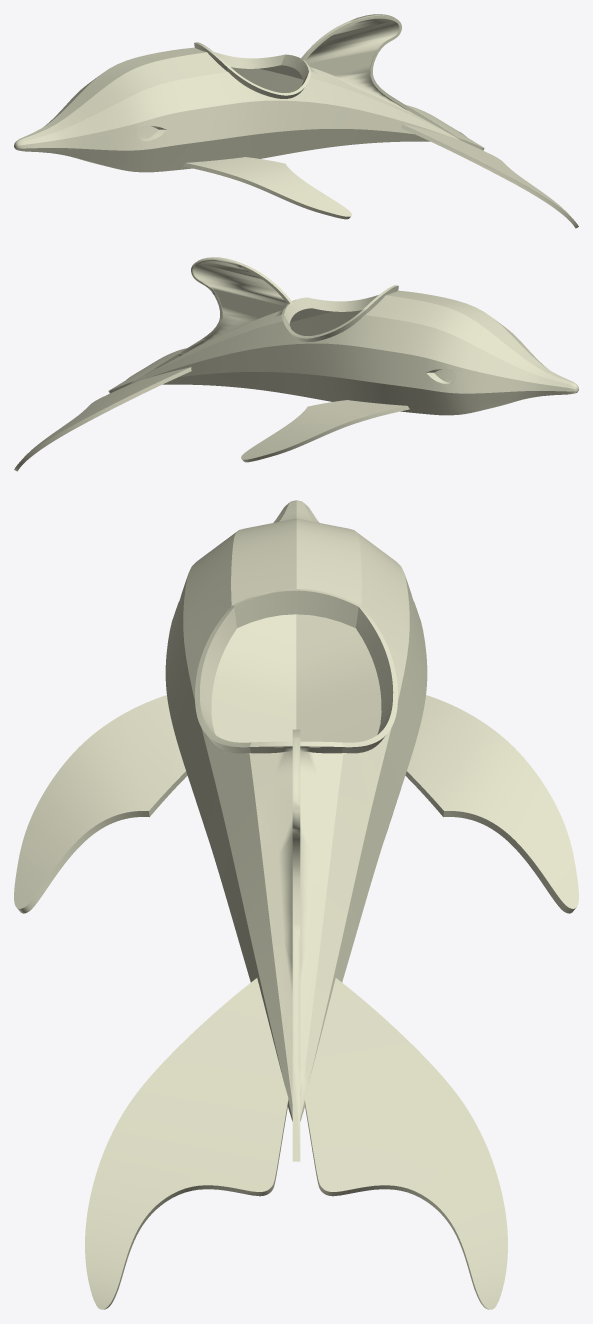
Rendered from _DOLFIJN.dae.
3 renders of one model, top to bottom at view 1: azimuth 30°, elevation 25°; view 2: azimuth 150°, elevation 25°; view 3: azimuth 270°, elevation 25°, orthographic. The views are drawn at different scales.
Parts seen in each view (by area): view 1: SketchUp (×15); view 2: SketchUp (×14); view 3: SketchUp (×16).
Part boxes in pixels (bbox=[...]): SketchUp (×15): bbox=[14, 14, 578, 228]; SketchUp (×14): bbox=[14, 257, 578, 471]; SketchUp (×16): bbox=[14, 500, 578, 1309].
Size of the model in its own units: 11.54 by 5.73 by 4.73.
